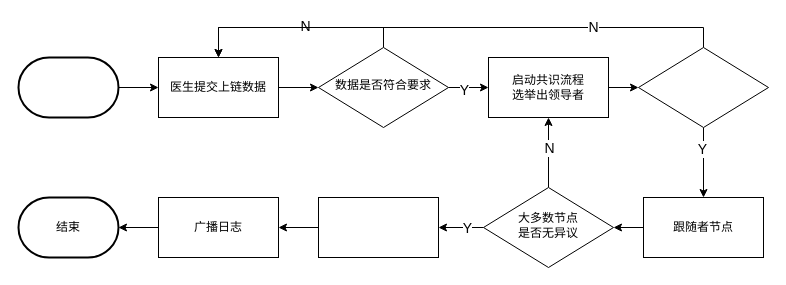
The diagram is 786 pixels wide and 285 high, and some of its shapes have lost their labels. The shapes that lost their labels are listed below. From the top down, each one's centre as x and y in pixels, then its label:
At [68,87]: "开始".
At [703,87]: "初步审查 审查证书".
At [378,227]: "领导者打包区块 数据上链".
